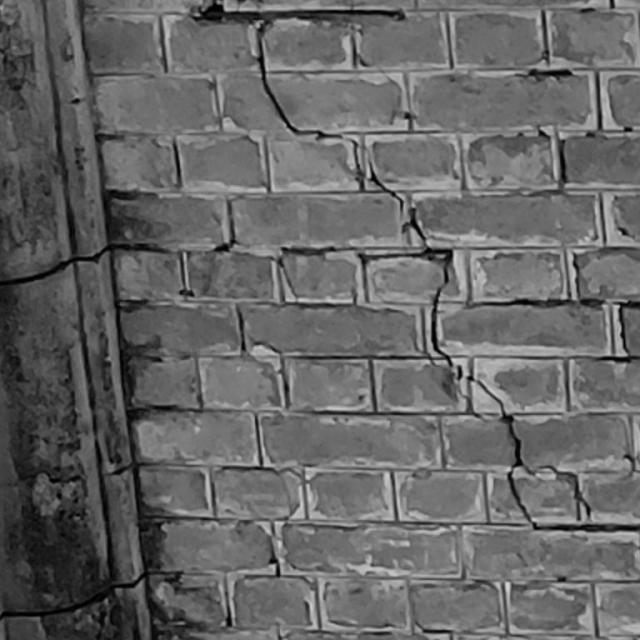crack: (190, 1, 638, 532)
